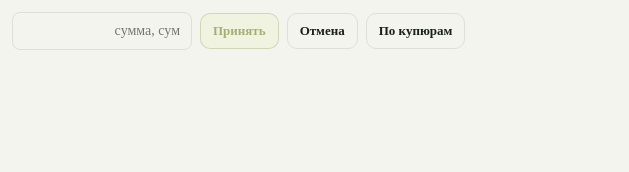
Test: CollectionReceive › показывает отказ Core и не обновляет страницу
The image size is (629, 172).
Type "10000" into the field with placeholder "сумма, сум" at (102, 31), box [12,12,192,50]
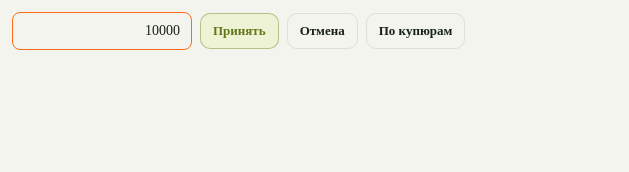
Click the button "Принять" at (239, 31), box [200,13,279,49]
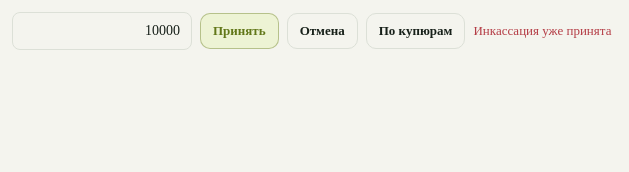
expect the text "Инкассация уже принята" is shown: met, box [473,22,611,40]
